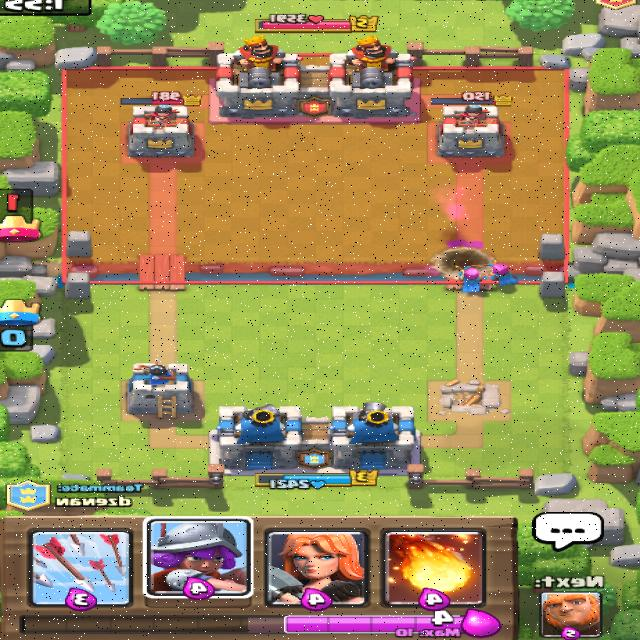Player-Archer: (483, 259, 521, 288), (456, 264, 483, 292)
